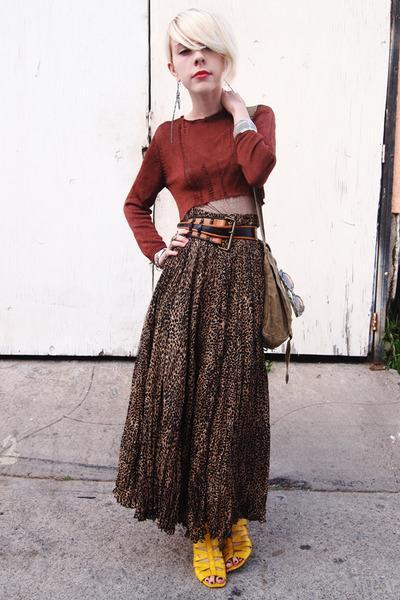long sleeve shirt: (112, 98, 278, 260)
skirt: (110, 206, 273, 532)
